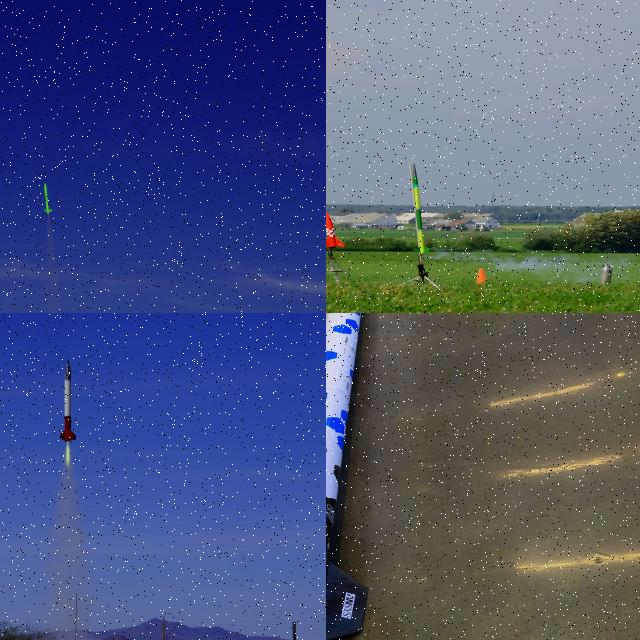Rocket: (326, 313, 369, 640), (412, 163, 430, 255), (59, 358, 77, 442), (326, 211, 344, 248), (44, 183, 54, 214)
